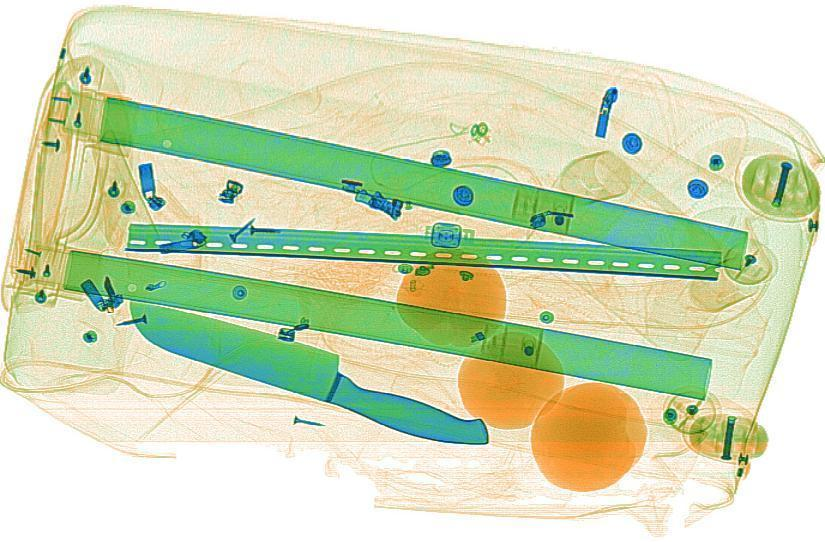Knife: (100, 289, 515, 456)
